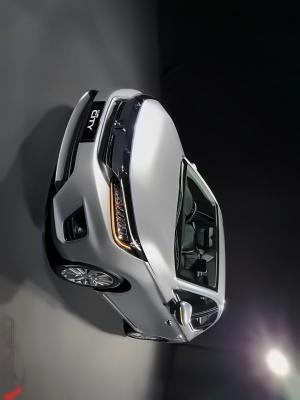Car hood: (128, 96, 181, 302)
Fender - -F-L-: (66, 259, 192, 306)
Front bumper: (45, 88, 143, 264)
Headlight - -L-: (107, 177, 149, 261)
Headlight - -R-: (128, 92, 154, 108)
Passenger-s door - -F-L-: (98, 284, 228, 321)
Side bumper - -L-: (89, 283, 143, 337)
Side mirror - -L-: (171, 297, 193, 333)
